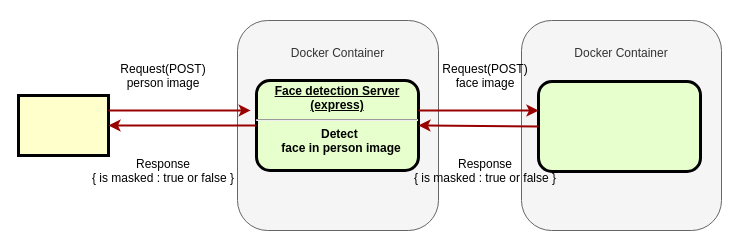
Image size: 739x250. Some labels were removed from this diagram. The shapes that lost their labels are listed below. From the top down, each one's centre as x and y in pixels, then its label:
At [63,125]: "User".
At [619,126]: "Mask detection Server (flask) Detect mask in face image".
